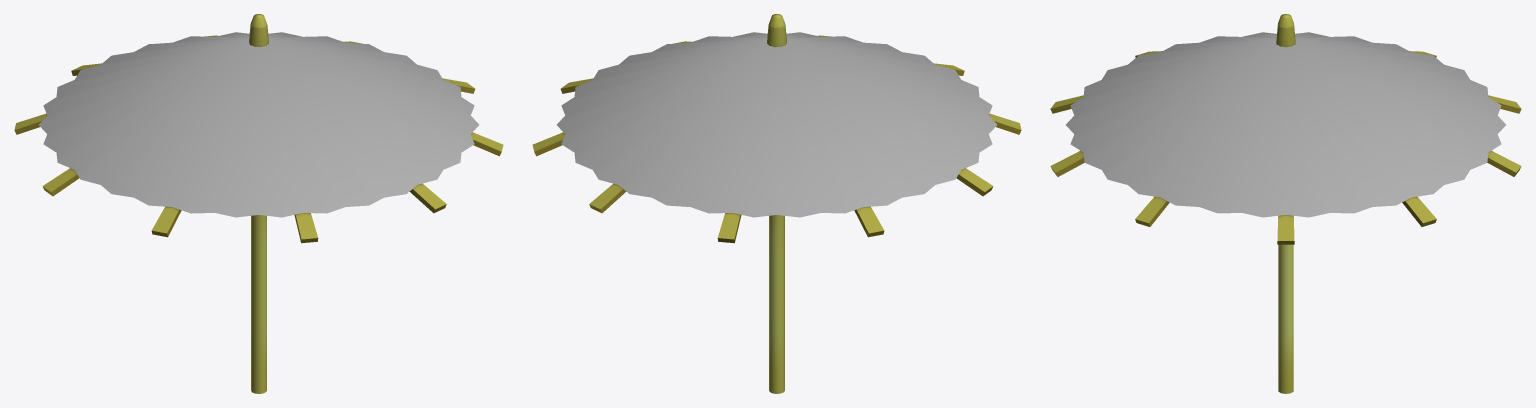
Rendered from umbrella.fbx.
3 renders of one model, left to right at view 1: azimuth 30°, elevation 25°; view 2: azimuth 150°, elevation 25°; view 3: azimuth 270°, elevation 25°, orthographic.
Parts seen in each view (by area): view 1: umbrella; view 2: umbrella; view 3: umbrella.
Part boxes in pixels (<box>): umbrella: <box>14,14,503,393</box>; umbrella: <box>532,14,1021,393</box>; umbrella: <box>1050,14,1521,393</box>.
Bounding box in the file's own units: 886 × 750 × 852.
